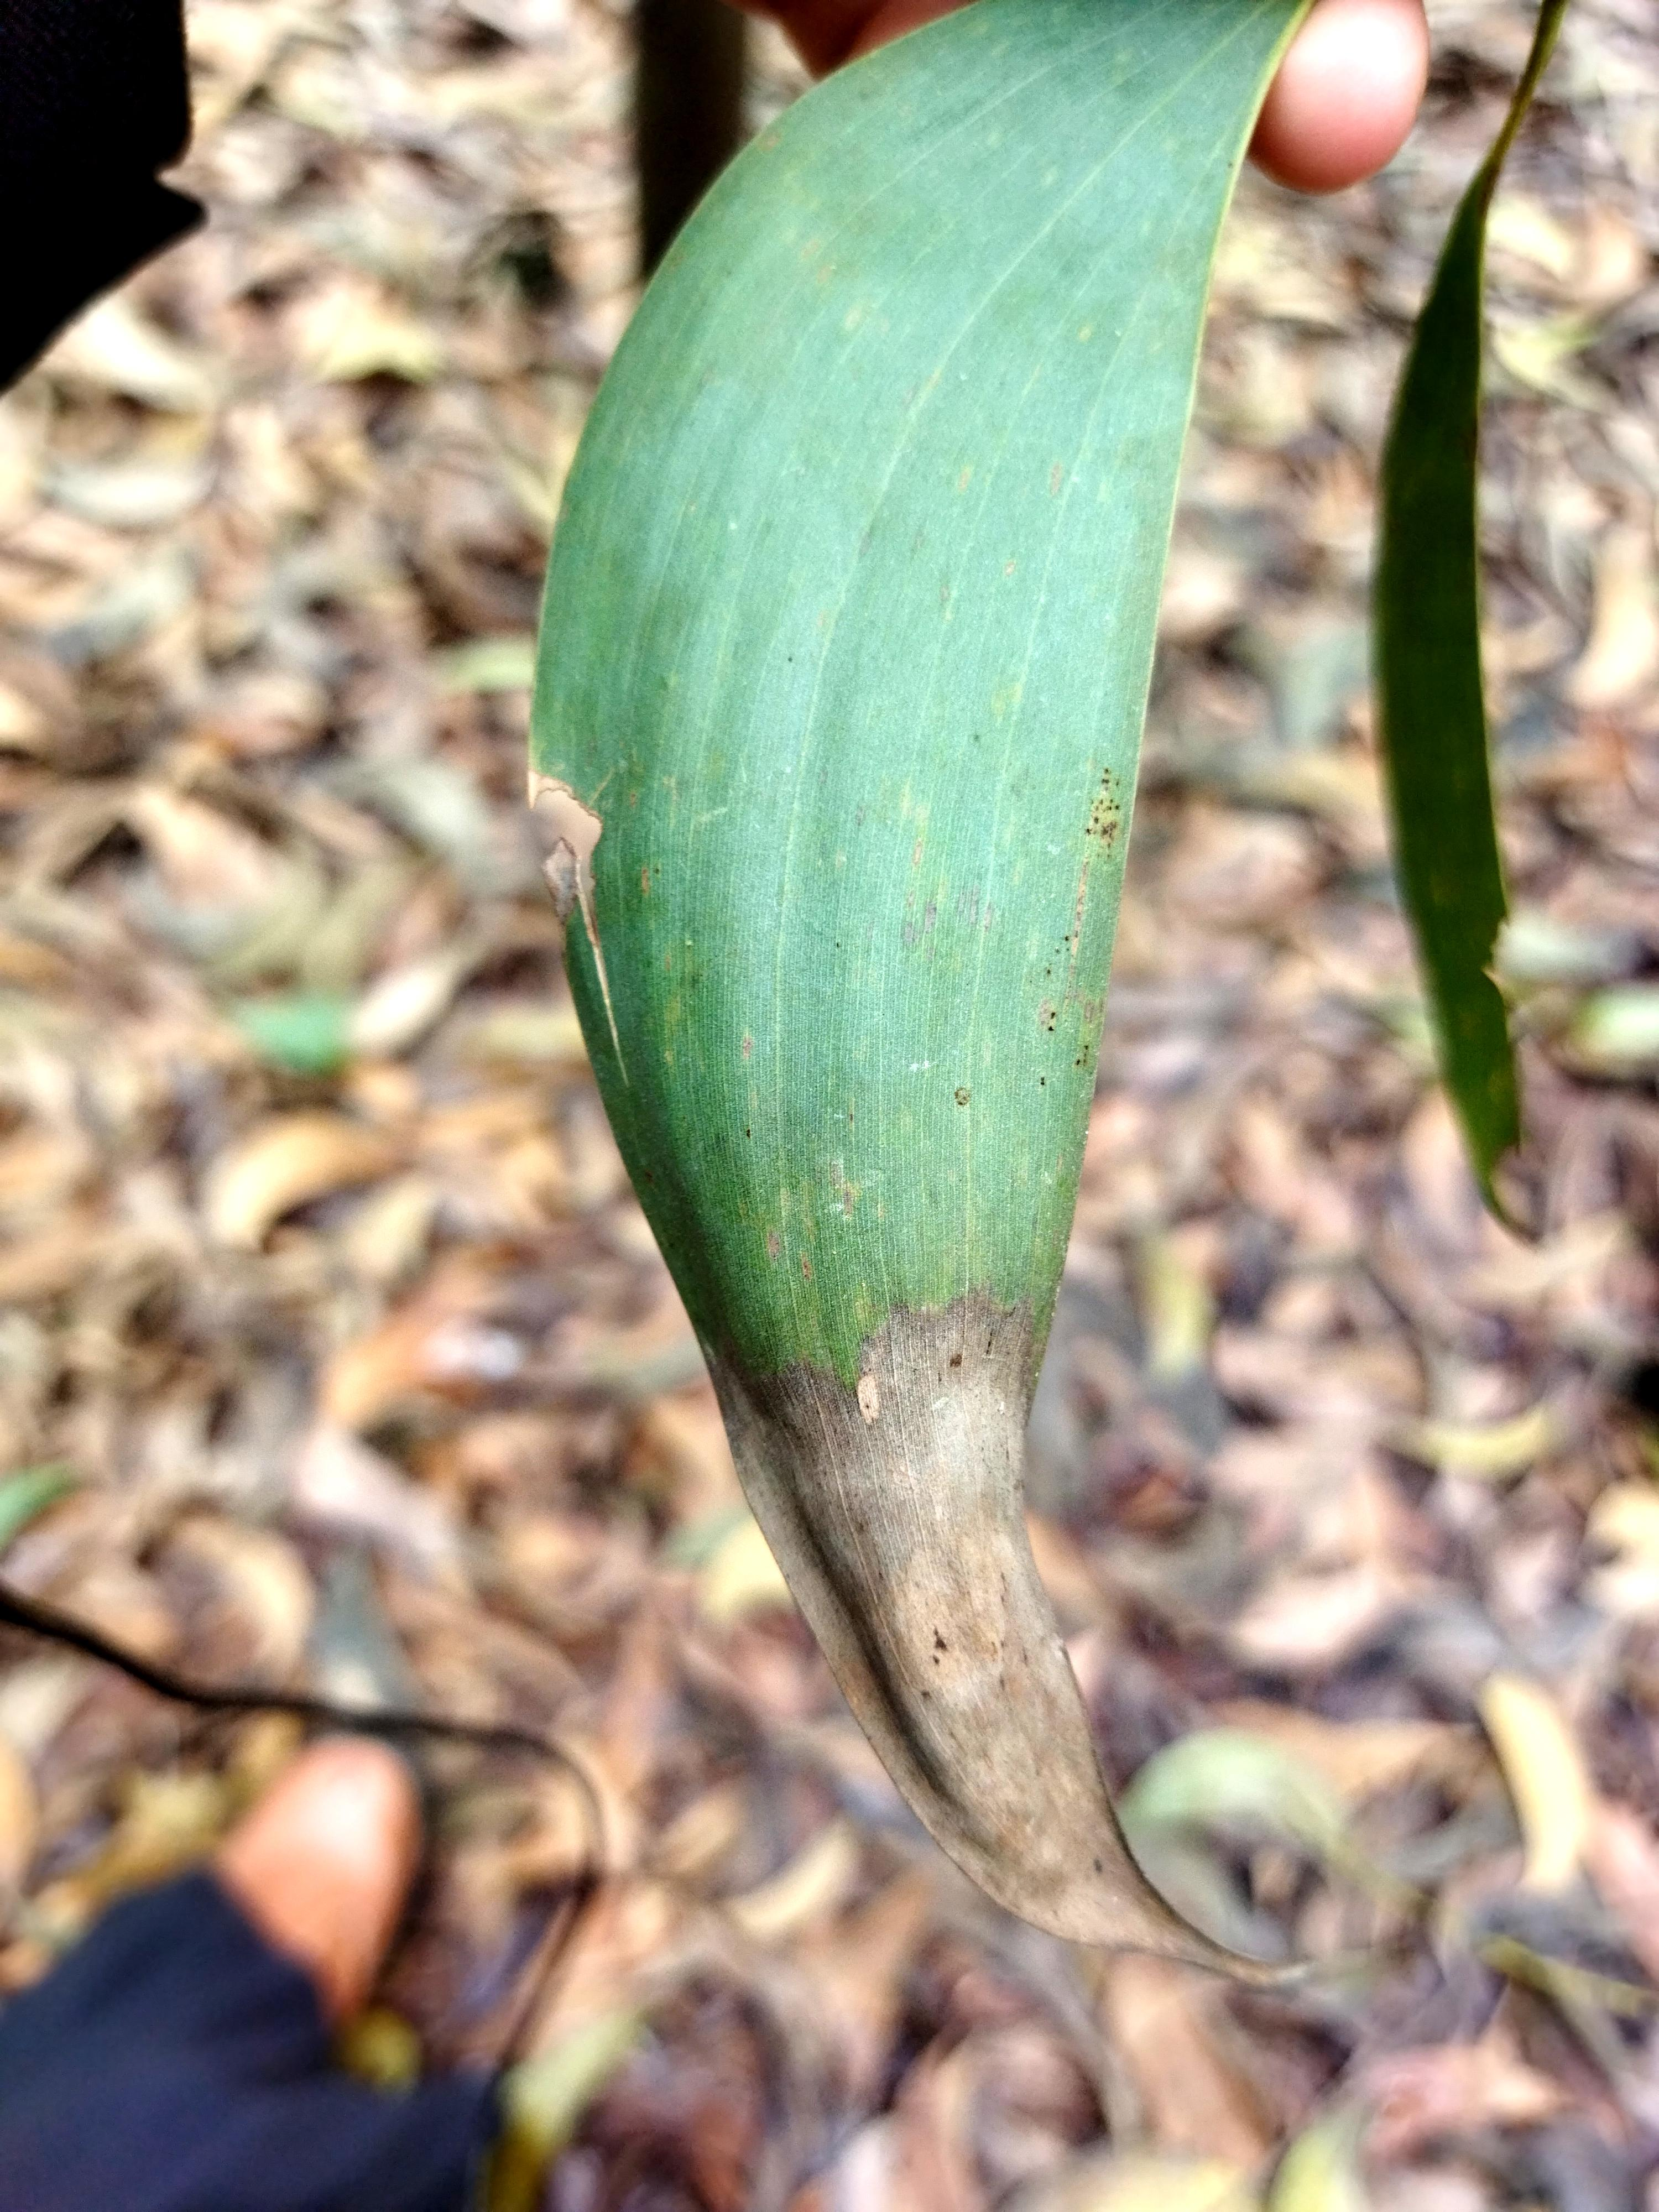Cylindrocladium: (698, 1328, 1394, 2062)
